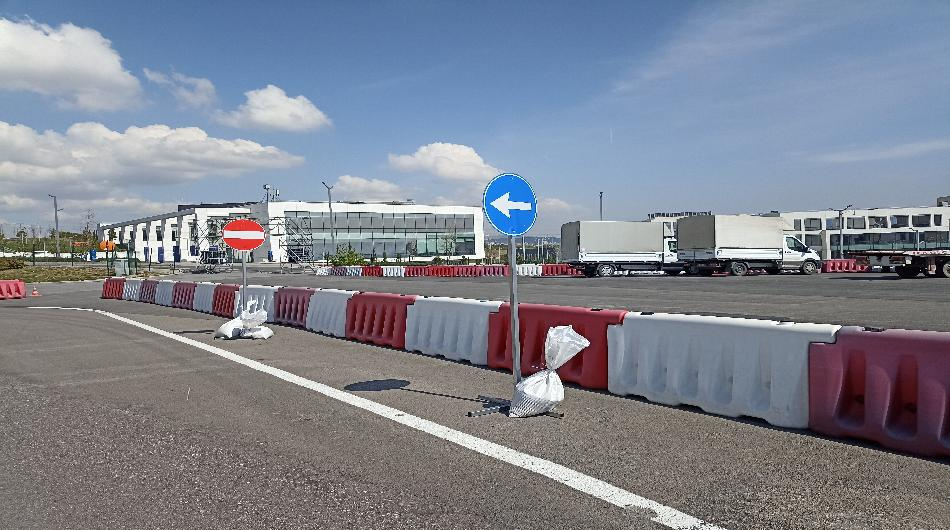girilmez: (223, 217, 266, 250)
sola_mecburi_1: (480, 171, 541, 242)
